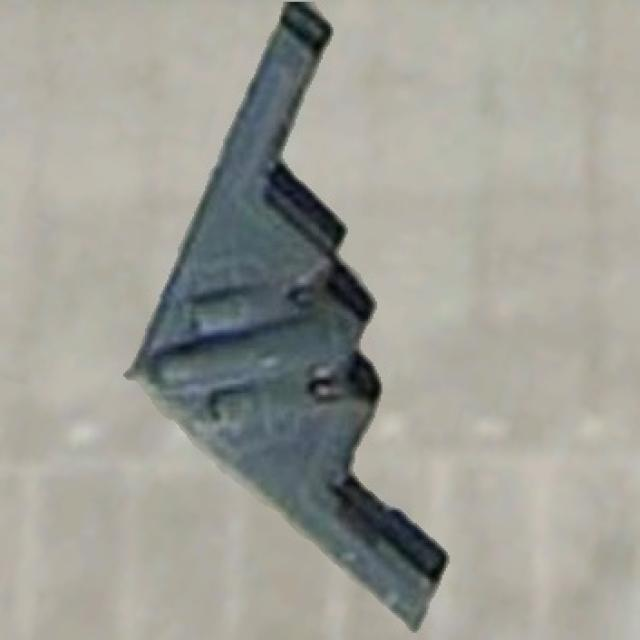B-2_TopDown: (120, 0, 453, 633)
